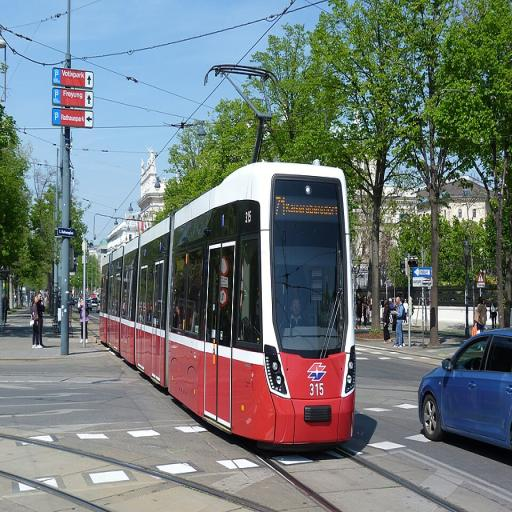Flexity: (95, 153, 360, 448)
